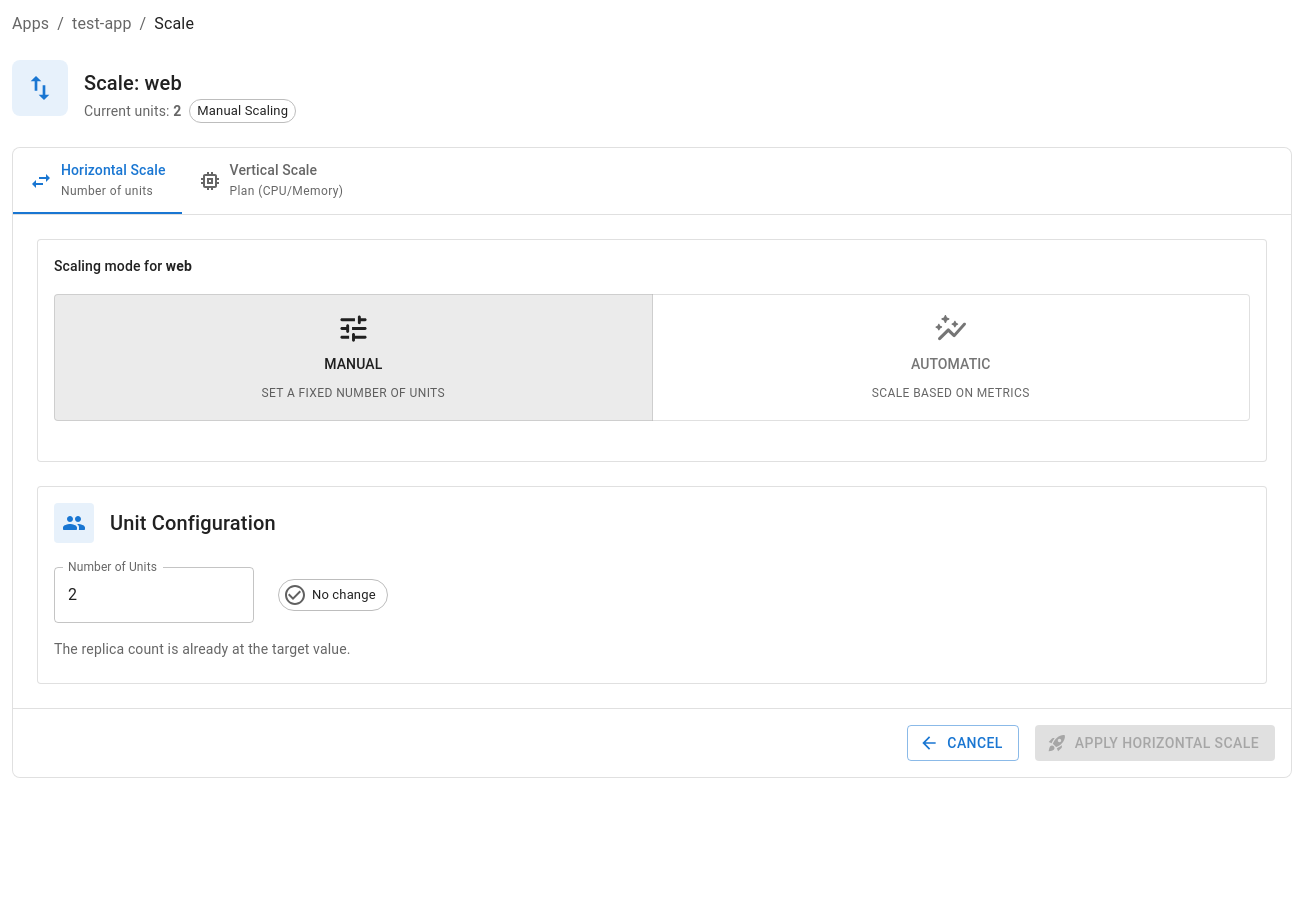
Test: AppScaleView › can switch between horizontal and vertical tabs
Expected: the number field labelled "Number of Units" is shown, [54,567,254,623]
Switch to vertical tab
Click the tab "Vertical Scale Plan (CPU/Memory)": (270, 181) [182,148,359,214]
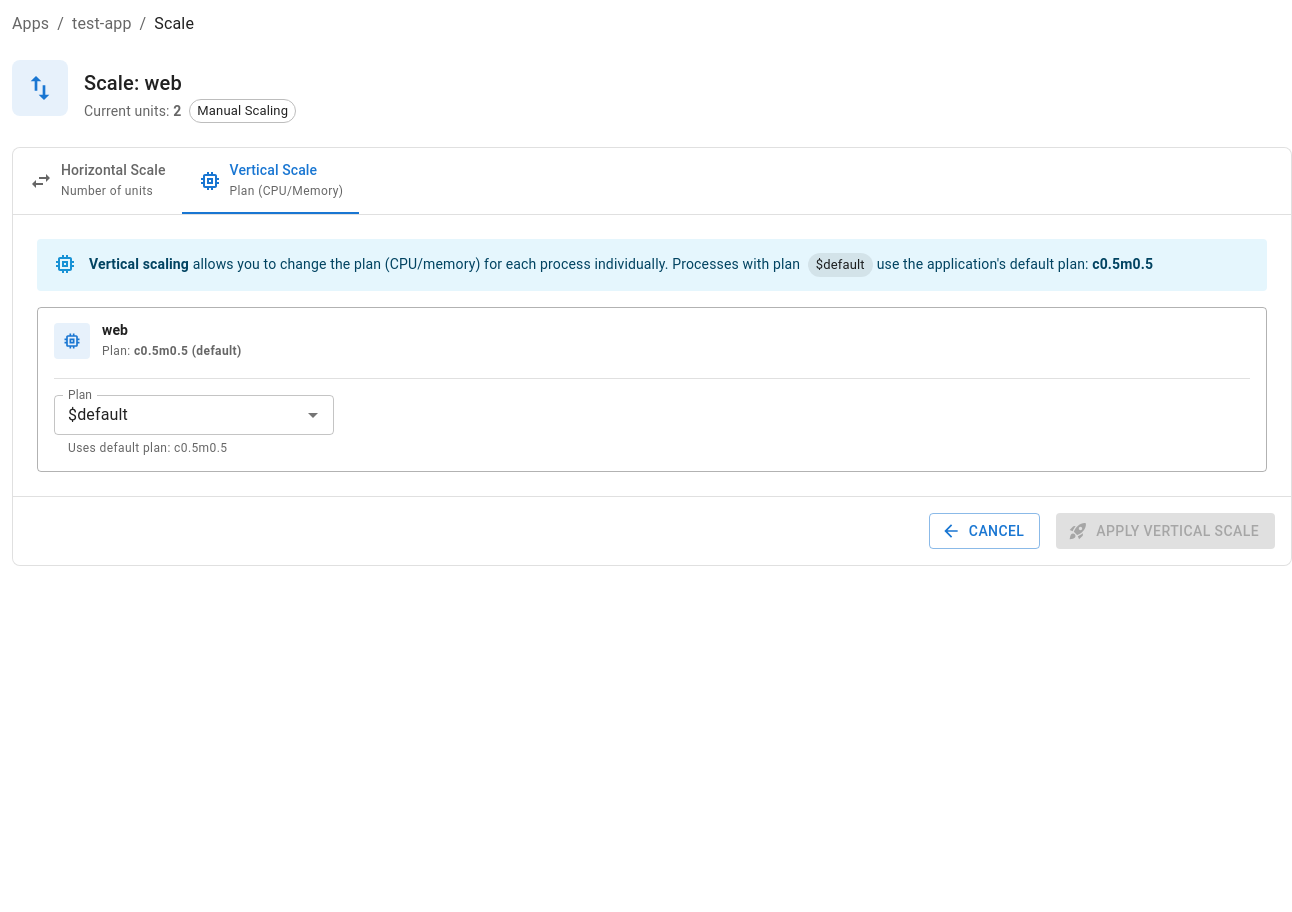
Expected: the button "Apply Vertical Scale" is shown, [1056,513,1275,549]
